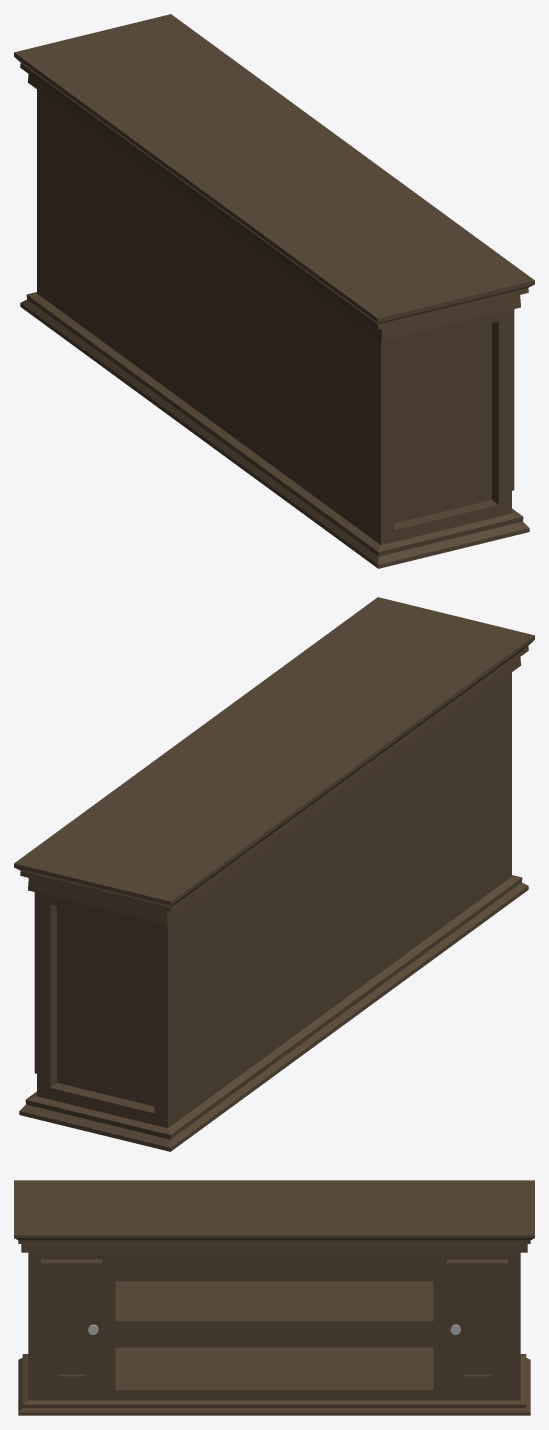
Rendered from SM_Cupboard_01.glb.
The picture shows the model from 3 angles, top to bottom: view 1: azimuth 30°, elevation 25°; view 2: azimuth 150°, elevation 25°; view 3: azimuth 270°, elevation 25°; orthographic projection. The views are drawn at different scales.
Visible parts, largest first — view 1: SM_Cupboard_01; view 2: SM_Cupboard_01; view 3: SM_Cupboard_01.
Boxes of the visible parts, x1,y1,x2,y2 form: SM_Cupboard_01: [14, 14, 534, 568]; SM_Cupboard_01: [14, 597, 534, 1151]; SM_Cupboard_01: [14, 1180, 534, 1415].
Bounding box in the file's own units: 0.5757 × 0.8604 × 2.24.
1 material, 1 textured.
